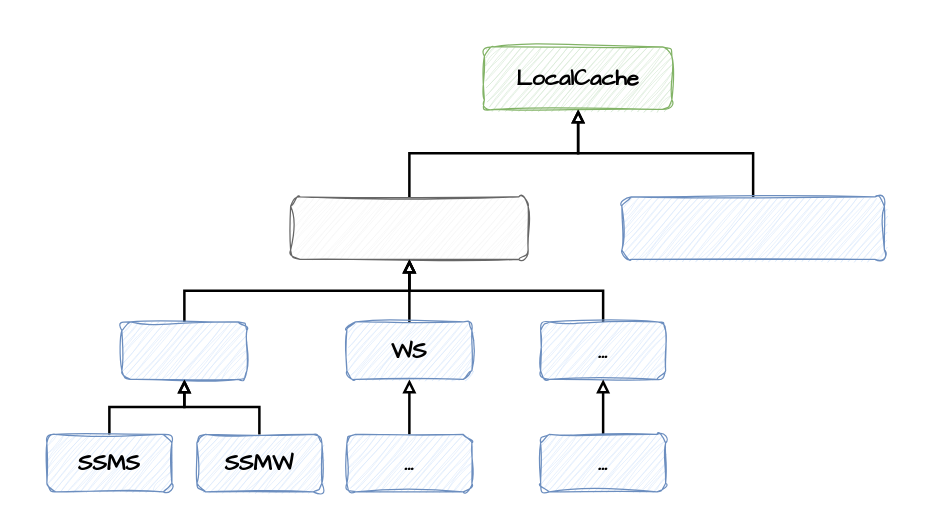
Some shapes in this 943 by 530 pixel diagram are drawn without their labels. Each missing label, with the centre of its shape:
"BoundedLocalCache" belongs at (408,227).
"SS" belongs at (184,350).
"UnBoundedLocalCache" belongs at (752,227).
